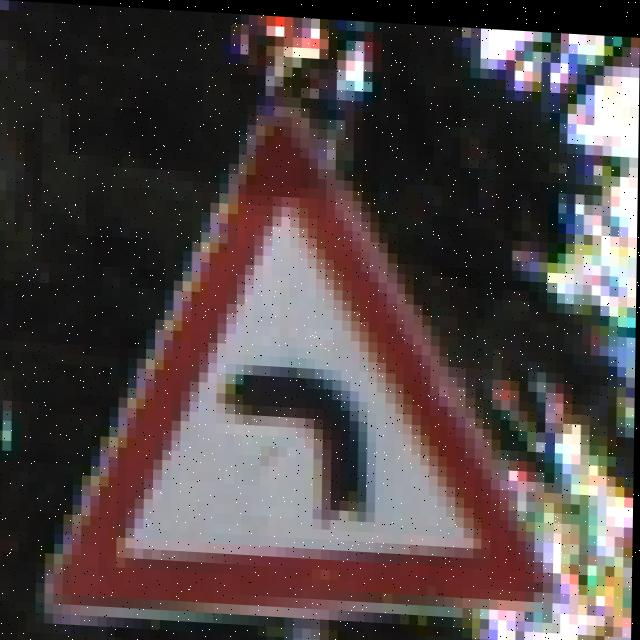left_turn: (75, 123, 563, 640)
